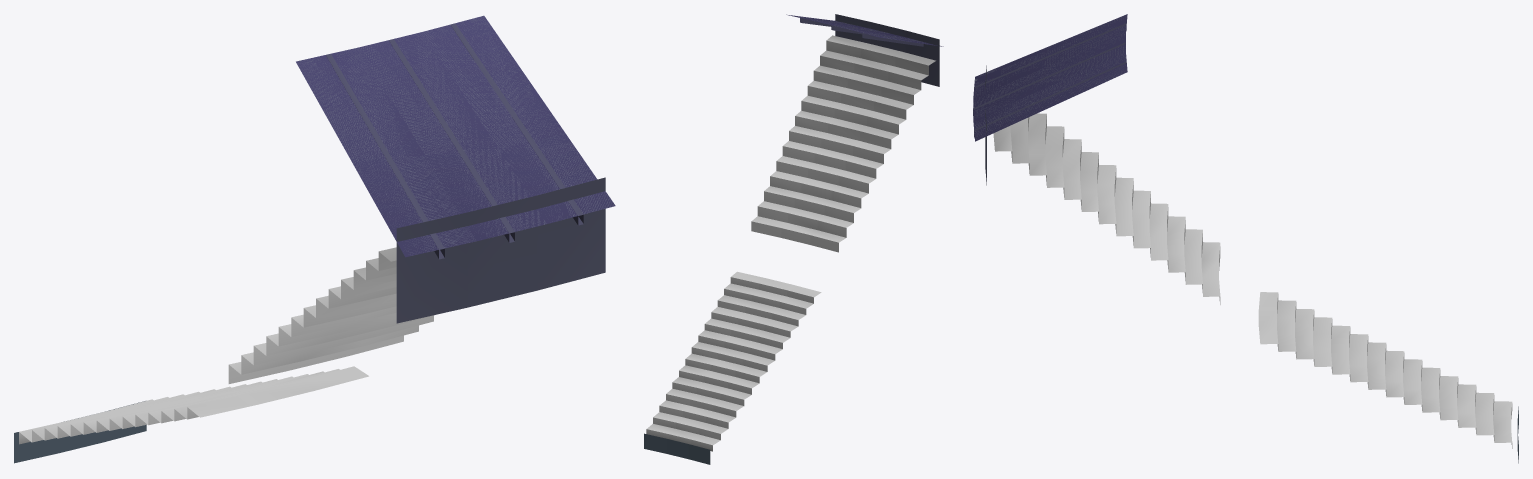
The model's file is wedge-lod0.fbx.
The picture shows the model from 3 angles, left to right: view 1: azimuth 30°, elevation 25°; view 2: azimuth 150°, elevation 25°; view 3: azimuth 270°, elevation 25°; orthographic projection. The views are drawn at different scales.
Visible parts, largest first — view 1: VandeWedge_LOD0; view 2: VandeWedge_LOD0; view 3: VandeWedge_LOD0.
Part boxes in pixels (left/top/right/bottom): VandeWedge_LOD0: left=14, top=15, right=615, bottom=463; VandeWedge_LOD0: left=644, top=14, right=943, bottom=464; VandeWedge_LOD0: left=973, top=14, right=1518, bottom=463.
Bounding box in the file's own units: 1157 × 3335 × 4110.
